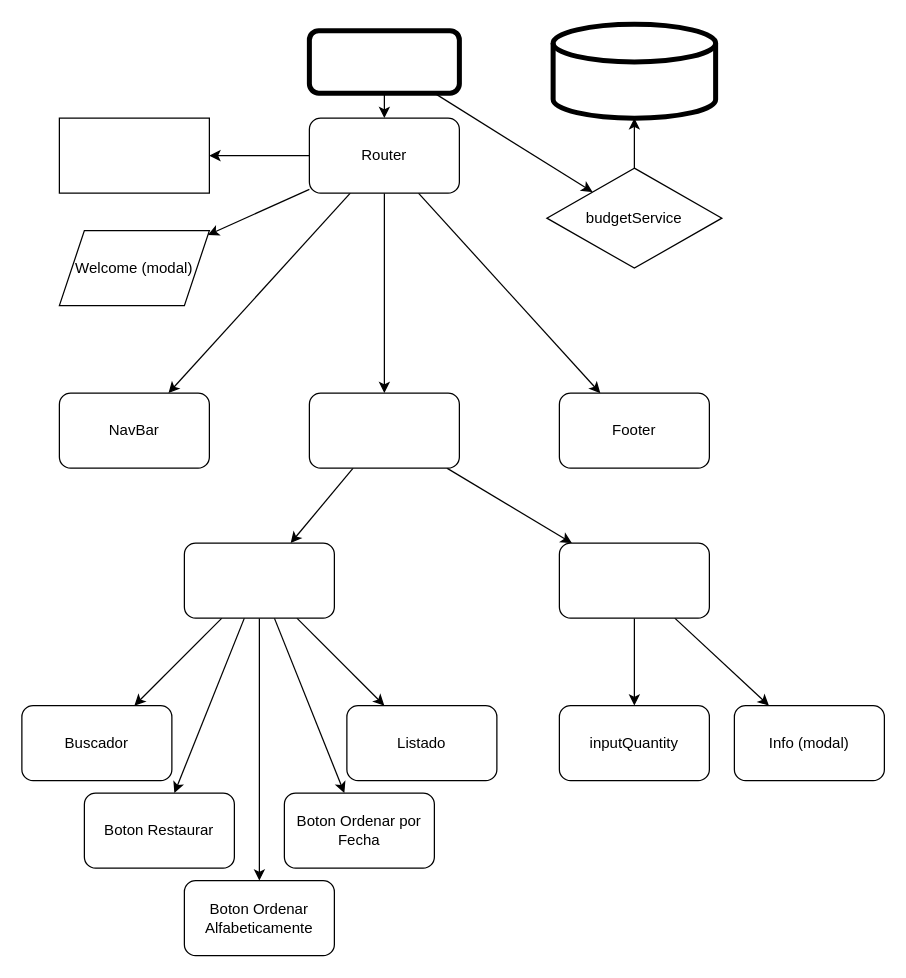
Some shapes in this 906 by 978 pixel diagram are drawn without their labels. Here are the shapes that lost their labels. From the top down, the centre of each, then its label:
(383,61): App.js
(634,70): LocalStorage
(133,155): GlobalStyles
(383,430): ContainerBlock
(258,580): ListadoPresupuestos
(633,580): ConfigMenu
